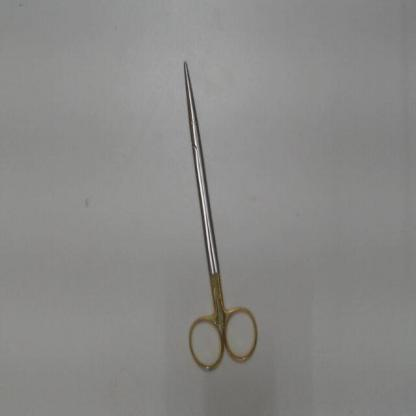7 Metzenbaum Scissors: (182, 54, 262, 374)
